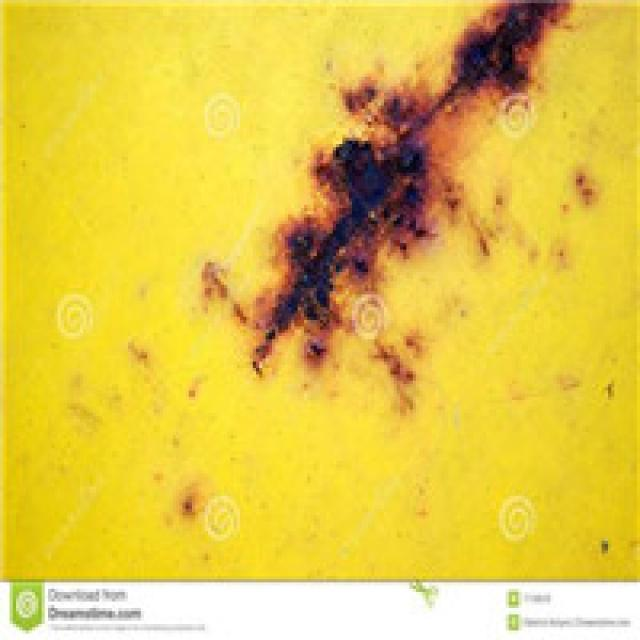Corrosion: (289, 139, 427, 310), (430, 2, 543, 162), (253, 227, 330, 375), (333, 76, 440, 178)
